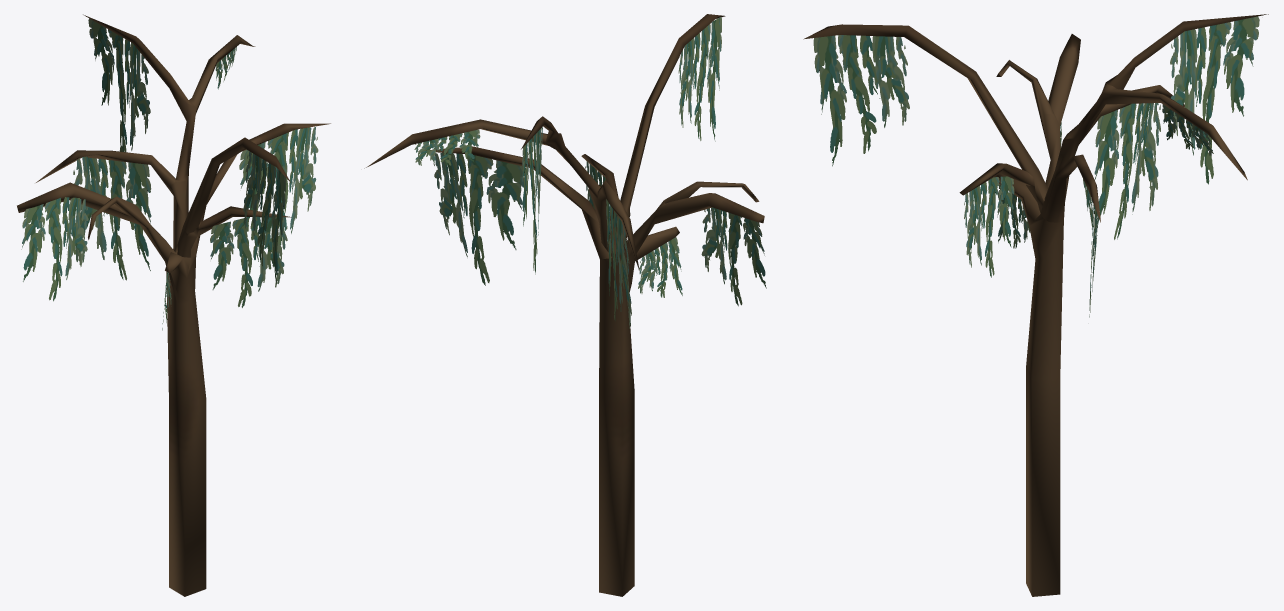
Rendered from Tree_2.fbx.
The picture shows the model from 3 angles, left to right: view 1: azimuth 30°, elevation 25°; view 2: azimuth 150°, elevation 25°; view 3: azimuth 270°, elevation 25°; orthographic projection. The views are drawn at different scales.
Parts seen in each view (by area): view 1: Tree 2; view 2: Tree 2; view 3: Tree 2.
Boxes of the visible parts, x1=… form: Tree 2: x1=17, y1=14, x2=330, y2=596; Tree 2: x1=364, y1=14, x2=766, y2=596; Tree 2: x1=803, y1=14, x2=1268, y2=596.
Size of the model in its own units: 915 by 1318 by 972.
